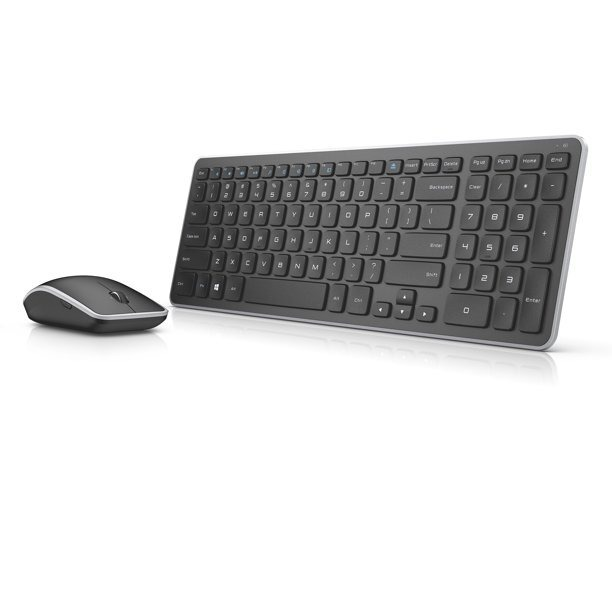mouse: (9, 251, 175, 397)
